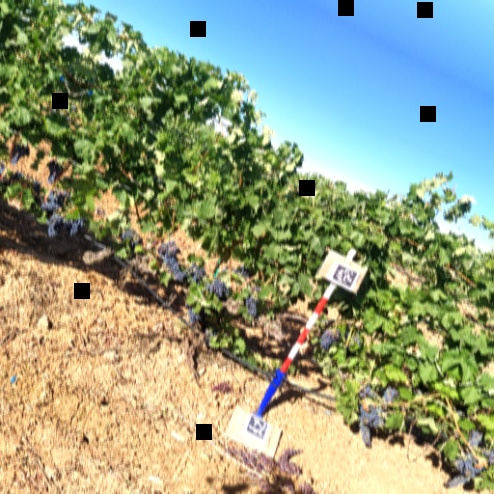QR: (331, 262, 361, 289), (245, 414, 272, 439)
